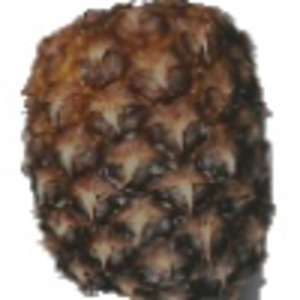abacaxi: (18, 2, 277, 296)
